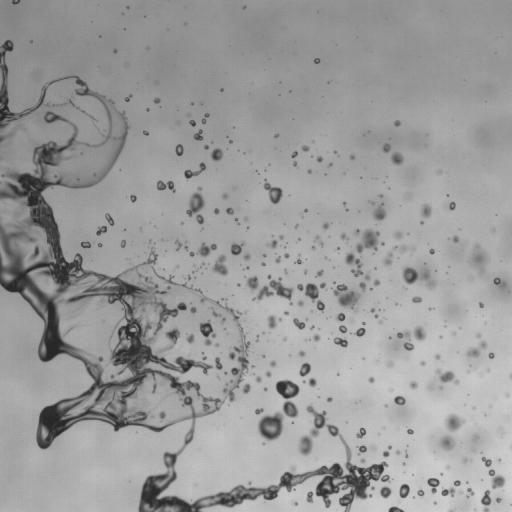droplet: (0, 40, 61, 131), (253, 275, 293, 304), (333, 284, 360, 312), (397, 326, 426, 350), (468, 244, 488, 275), (356, 229, 379, 253), (264, 180, 282, 203), (444, 414, 465, 431), (488, 469, 505, 488), (212, 254, 227, 275), (373, 203, 386, 220), (267, 315, 281, 329), (230, 242, 244, 255), (246, 276, 258, 291), (442, 435, 454, 450), (427, 478, 439, 493), (299, 362, 311, 376), (391, 152, 403, 165), (211, 148, 222, 161), (333, 337, 347, 347), (399, 484, 409, 498), (293, 318, 305, 329), (380, 486, 391, 498), (421, 204, 431, 217), (383, 252, 392, 265), (355, 327, 365, 337), (356, 428, 366, 438), (194, 129, 203, 140), (394, 396, 405, 405), (96, 226, 106, 235), (307, 377, 316, 387), (482, 457, 491, 467), (175, 144, 183, 155), (357, 445, 366, 454), (186, 333, 194, 343), (242, 383, 250, 393), (466, 488, 474, 498), (382, 143, 390, 152), (268, 240, 277, 248), (336, 313, 345, 321), (175, 240, 182, 250), (394, 231, 402, 239), (339, 325, 347, 333), (311, 334, 320, 341), (448, 202, 455, 210), (409, 381, 417, 388), (493, 278, 502, 284), (412, 296, 421, 302), (296, 254, 301, 264), (226, 207, 233, 214), (322, 222, 329, 229), (340, 233, 347, 240), (243, 253, 250, 260), (417, 489, 424, 496), (359, 282, 365, 290), (255, 408, 263, 414), (81, 242, 90, 247), (302, 145, 309, 151), (130, 195, 136, 202), (316, 270, 323, 276), (364, 273, 370, 280), (125, 95, 131, 101), (154, 97, 160, 103), (189, 120, 195, 126), (394, 120, 400, 126), (291, 151, 297, 157), (373, 279, 379, 285), (299, 350, 305, 356), (488, 352, 494, 358), (407, 428, 413, 434), (120, 240, 125, 247), (317, 156, 322, 162), (214, 208, 219, 214), (453, 236, 458, 242), (275, 257, 280, 263), (320, 282, 325, 288), (298, 300, 303, 306), (270, 361, 275, 367), (388, 361, 393, 367), (266, 371, 271, 377), (256, 376, 261, 382), (369, 377, 374, 383), (291, 501, 298, 505), (314, 58, 319, 63), (143, 130, 148, 135), (222, 194, 227, 199), (354, 229, 359, 234), (429, 249, 434, 254), (284, 253, 289, 258), (360, 458, 365, 463), (496, 497, 501, 502), (435, 354, 439, 359), (420, 361, 425, 365), (327, 397, 332, 401), (474, 434, 478, 439), (204, 145, 208, 149), (350, 155, 354, 159), (307, 169, 311, 173), (235, 219, 239, 223), (279, 235, 283, 239), (184, 246, 188, 250), (261, 262, 265, 266), (186, 275, 190, 279), (479, 303, 483, 307), (370, 308, 374, 312), (284, 311, 288, 315), (476, 333, 480, 337), (293, 161, 296, 166), (429, 384, 432, 389), (98, 243, 102, 246), (311, 246, 315, 249), (374, 314, 377, 318), (310, 325, 313, 329), (264, 387, 267, 391), (463, 458, 467, 461), (256, 336, 258, 341), (275, 134, 278, 137), (304, 209, 307, 212), (201, 263, 204, 266), (175, 265, 178, 268), (283, 337, 286, 340), (446, 465, 449, 468), (459, 490, 462, 493), (113, 50, 116, 52), (229, 140, 232, 142), (329, 163, 331, 166), (343, 202, 345, 205), (381, 242, 384, 244), (304, 270, 306, 273), (237, 284, 240, 286), (223, 298, 225, 301), (486, 369, 489, 371), (224, 372, 227, 374), (509, 374, 511, 377), (217, 376, 219, 379), (506, 394, 509, 396), (373, 447, 376, 449), (396, 451, 399, 453), (405, 453, 407, 456), (243, 6, 245, 8), (58, 104, 60, 106), (77, 107, 79, 109), (334, 151, 336, 153), (78, 168, 80, 170), (438, 171, 440, 173), (379, 194, 381, 196), (421, 222, 423, 224), (295, 225, 297, 227), (337, 247, 339, 249), (263, 254, 265, 256), (284, 270, 286, 272), (350, 320, 352, 322), (307, 338, 309, 340), (498, 459, 500, 461)
ligament: (0, 76, 387, 511), (258, 380, 299, 440), (297, 283, 324, 312), (402, 267, 436, 289), (186, 187, 204, 223), (199, 320, 219, 347), (0, 124, 26, 142), (345, 252, 362, 276), (189, 243, 217, 256), (184, 162, 205, 179), (436, 369, 458, 384), (467, 340, 486, 357), (441, 480, 460, 496), (156, 180, 175, 192), (481, 490, 491, 511), (81, 110, 94, 121), (105, 213, 114, 225), (382, 445, 391, 457), (393, 245, 408, 252), (388, 506, 404, 511), (315, 236, 323, 245), (202, 113, 209, 123), (12, 0, 20, 4), (68, 100, 74, 105), (448, 509, 455, 511), (0, 156, 1, 159)
